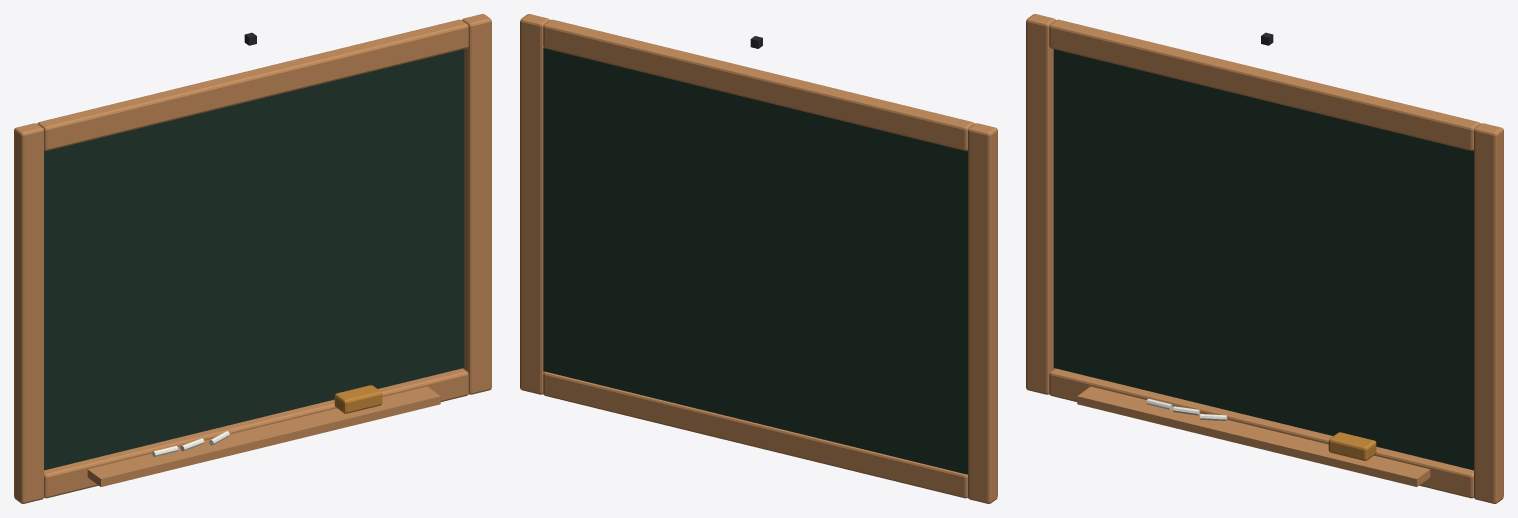
File: scoreboard.glb
3 renders of one model, left to right at view 1: azimuth 30°, elevation 25°; view 2: azimuth 150°, elevation 25°; view 3: azimuth 330°, elevation 25°, orthographic.
Parts seen in each view (by area): view 1: Scoreboard; view 2: Scoreboard; view 3: Scoreboard.
Part boxes in pixels (x1=…): Scoreboard: x1=14, y1=14, x2=491, y2=503; Scoreboard: x1=520, y1=14, x2=997, y2=503; Scoreboard: x1=1026, y1=14, x2=1503, y2=503.
Size of the model in its own units: 1.22 by 1.01 by 0.1.
